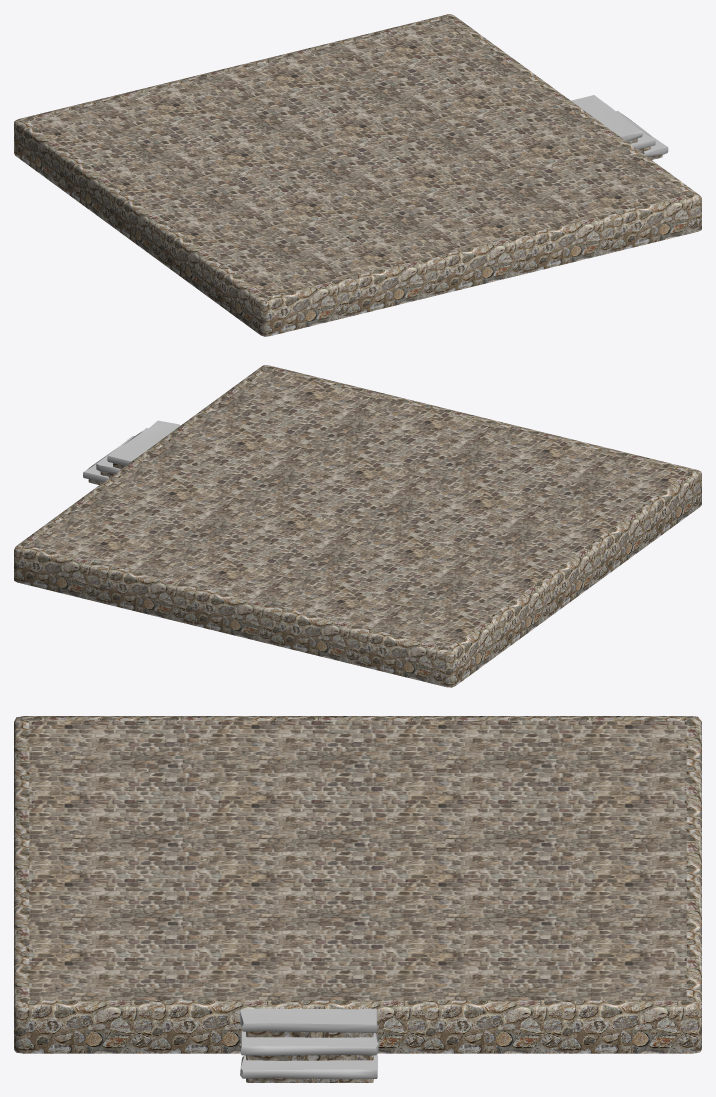
File: mw_type_2_cottage_02_building_bottom.FBX
The picture shows the model from 3 angles, top to bottom: view 1: azimuth 30°, elevation 25°; view 2: azimuth 150°, elevation 25°; view 3: azimuth 270°, elevation 25°; orthographic projection. The views are drawn at different scales.
Parts seen in each view (by area): view 1: mw_type_2_cottage_building_bottom; view 2: mw_type_2_cottage_building_bottom; view 3: mw_type_2_cottage_building_bottom.
Part boxes in pixels (bbox=[...]): mw_type_2_cottage_building_bottom: bbox=[14, 14, 701, 336]; mw_type_2_cottage_building_bottom: bbox=[14, 365, 701, 687]; mw_type_2_cottage_building_bottom: bbox=[14, 716, 701, 1082].
Size of the model in its own units: 1420 by 94.34 by 1270.
